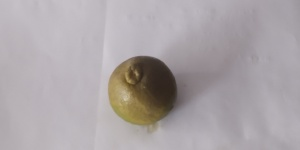BAD: (108, 56, 177, 130)
